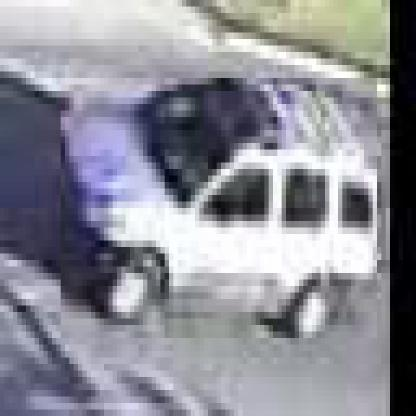car: (62, 79, 382, 345)
